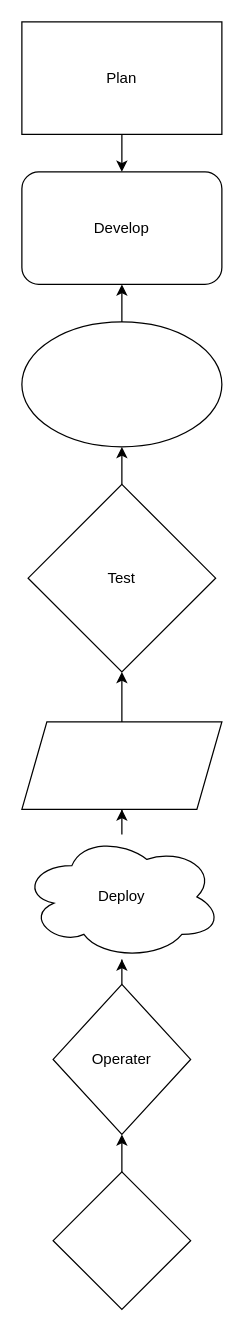
Some shapes in this 244 by 1331 pixel diagram are drawn without their labels. Each missing label, with the centre of its shape:
Build: point (121, 384)
Monitor: point (121, 1240)
Release: point (121, 765)
